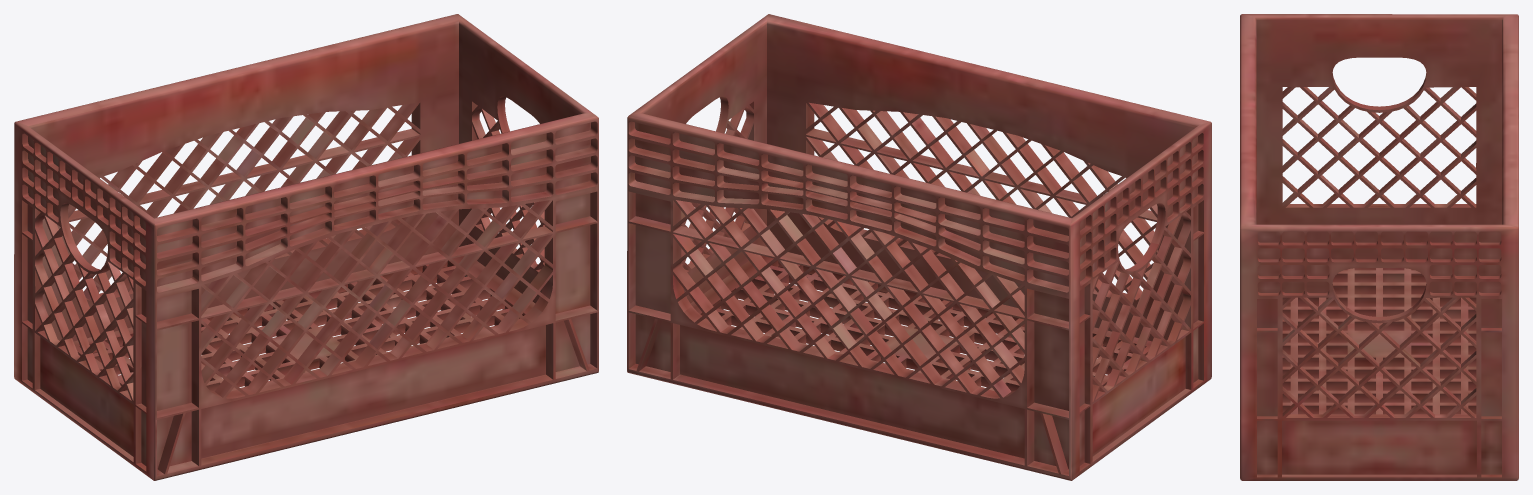
Rendered from plastic_crate_03.glb.
3 renders of one model, left to right at view 1: azimuth 30°, elevation 25°; view 2: azimuth 150°, elevation 25°; view 3: azimuth 270°, elevation 25°, orthographic.
Parts seen in each view (by area): view 1: plastic_crate_03; view 2: plastic_crate_03; view 3: plastic_crate_03.
Part boxes in pixels (x1,y1,x2,y2): plastic_crate_03: [14, 14, 598, 480]; plastic_crate_03: [627, 14, 1211, 480]; plastic_crate_03: [1240, 14, 1518, 480].
Bounding box in the file's own units: 0.4811 × 0.266 × 0.265.
1 material, 1 textured.
